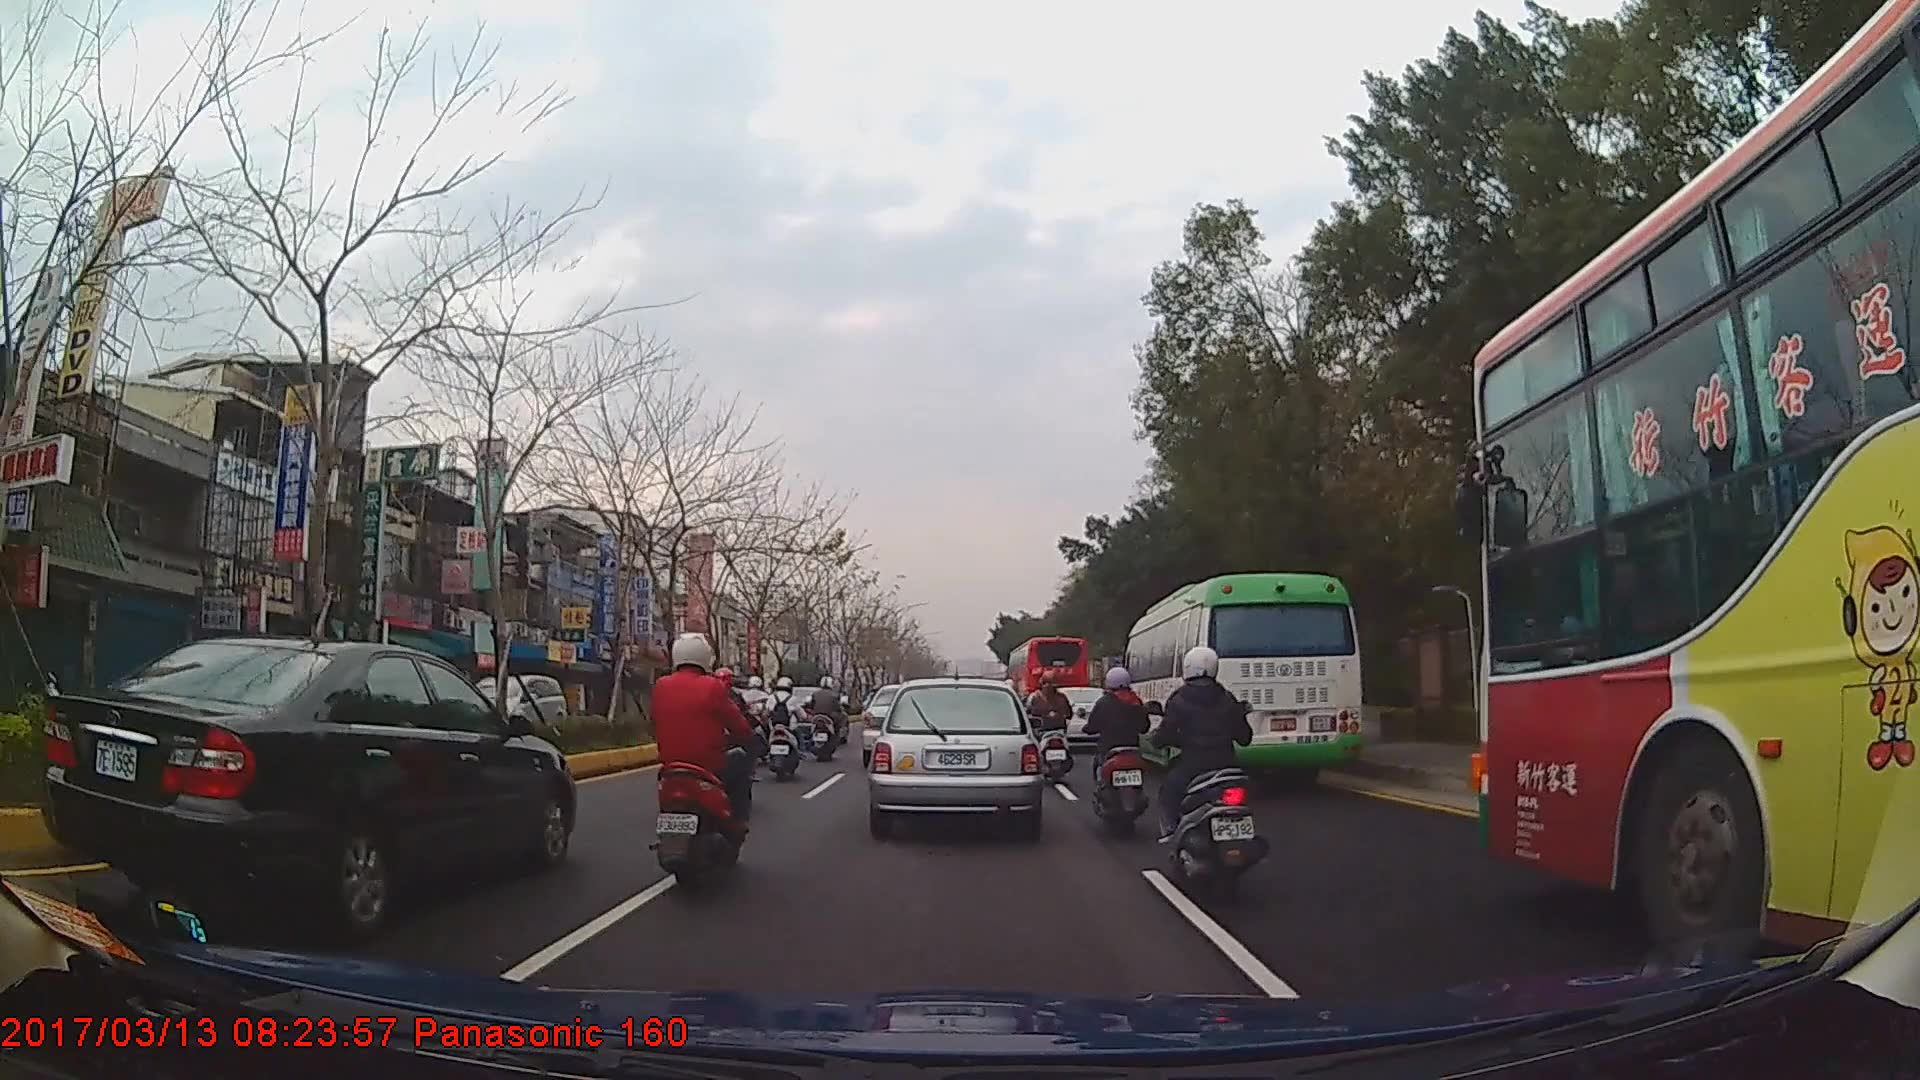rider: (639, 628, 757, 898), (1153, 645, 1271, 895), (1082, 663, 1156, 837), (691, 664, 764, 810), (1031, 666, 1076, 787), (763, 675, 810, 779), (812, 676, 851, 760), (738, 673, 779, 748)
vehicle: (1471, 0, 1920, 970), (42, 632, 575, 935), (1119, 572, 1362, 787), (868, 677, 1037, 834), (445, 672, 569, 746), (1006, 633, 1089, 729)
